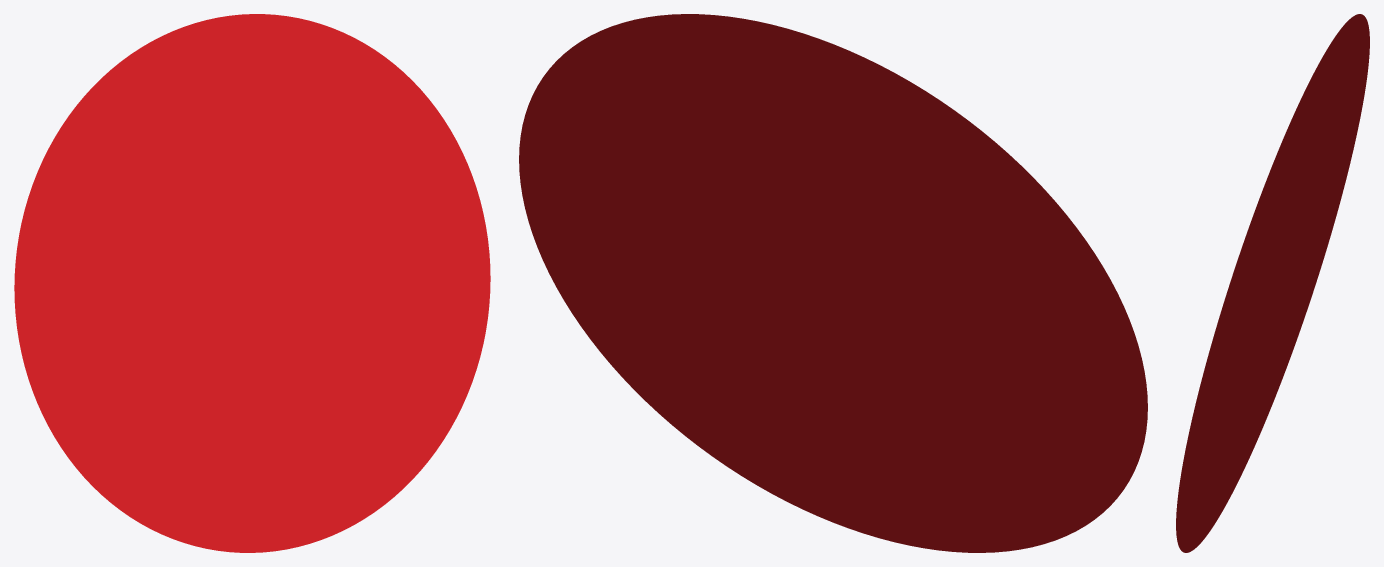
Rendered from Target3.fbx.
3 renders of one model, left to right at view 1: azimuth 30°, elevation 25°; view 2: azimuth 150°, elevation 25°; view 3: azimuth 270°, elevation 25°, orthographic. The views are drawn at different scales.
Visible parts, largest first — view 1: Target.001; view 2: Target.001; view 3: Target.001.
Boxes of the visible parts, bbox=[...] form: Target.001: bbox=[14, 14, 490, 552]; Target.001: bbox=[519, 14, 1147, 552]; Target.001: bbox=[1176, 14, 1369, 552].
Size of the model in its own units: 19.81 by 18.61 by 6.77.
